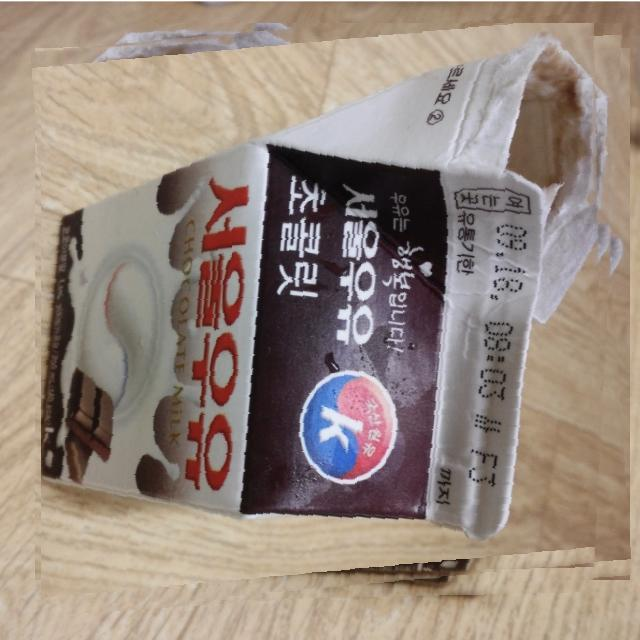biodegradable: (41, 23, 623, 605)
